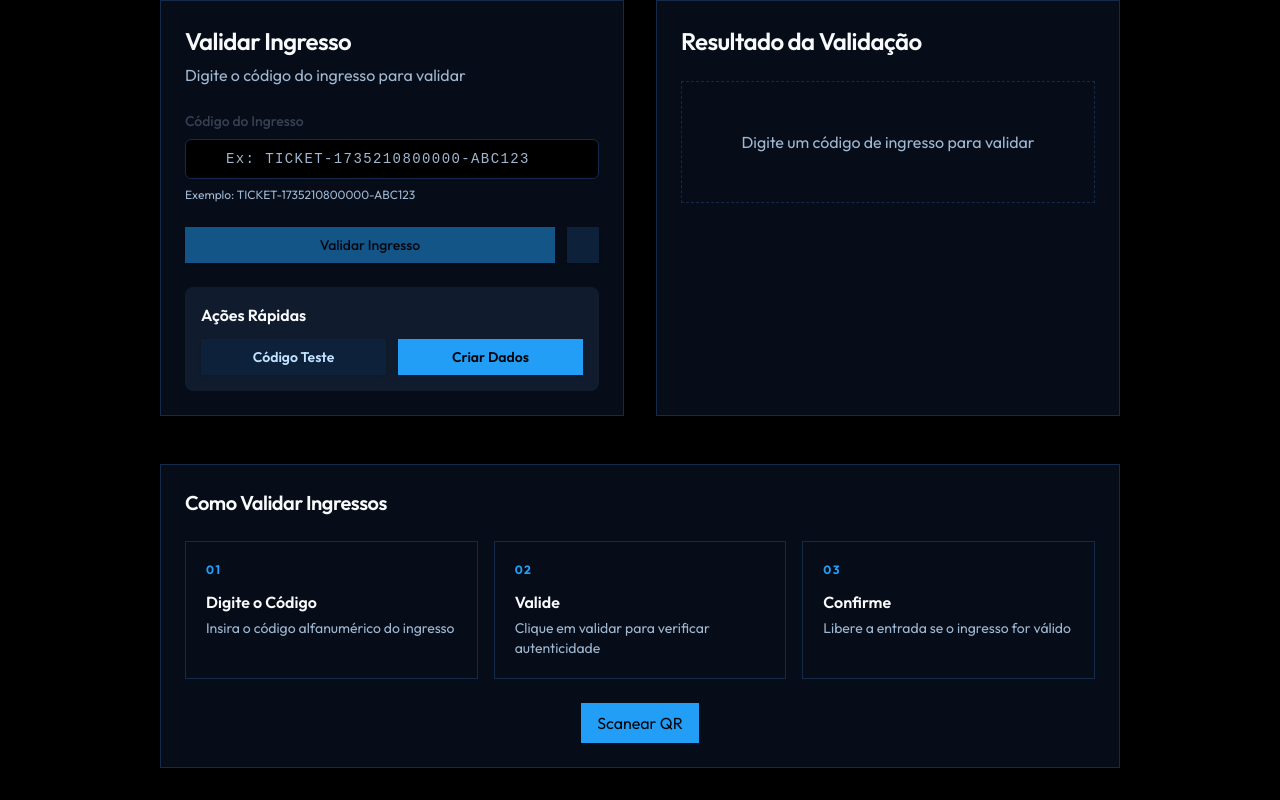
ValidatorPage › alterna texto do botão ao clicar em Scanear QR
(page scrolled)
Step 1. Click the button "Scanear QR" → (640, 723), box [581,703,699,743]
(page scrolled)
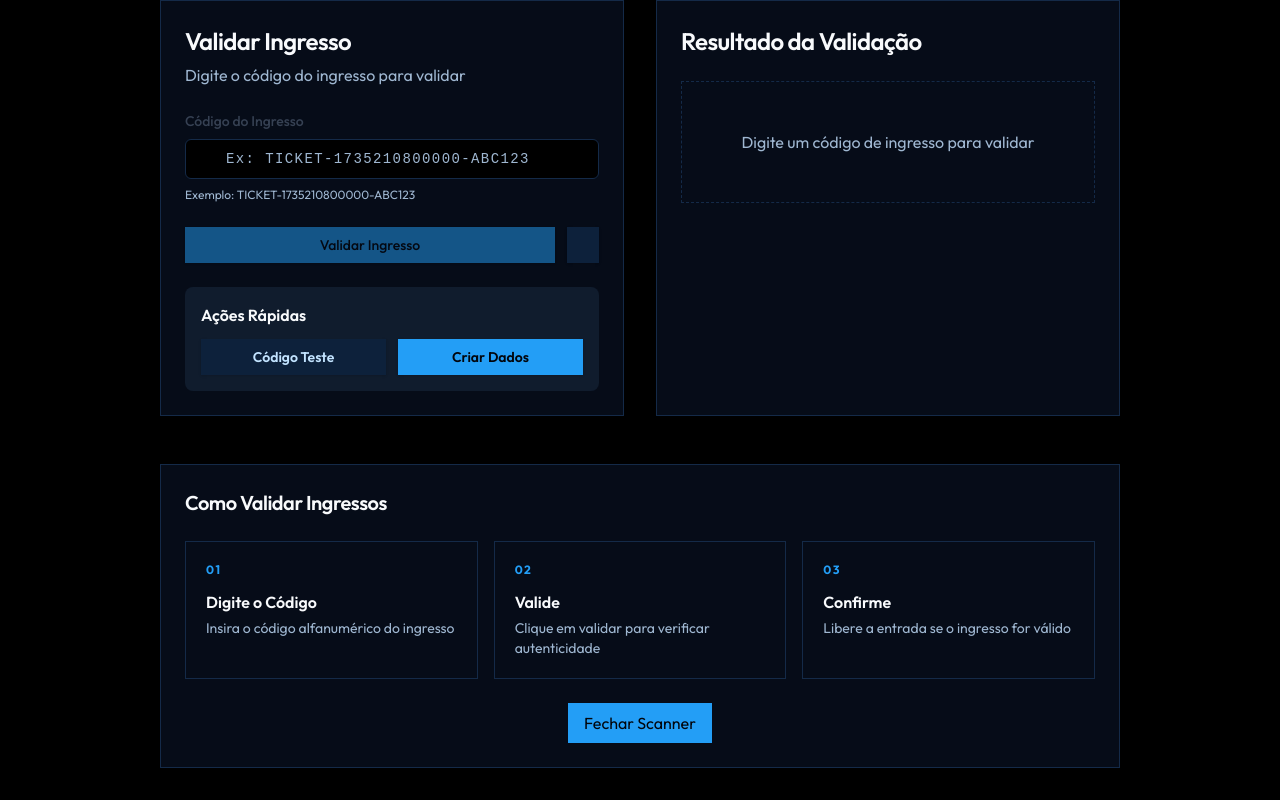
Now the button "Fechar Scanner" is shown
Step 2. Click the button "Fechar Scanner" → (640, 723), box [568,703,712,743]
(page scrolled)
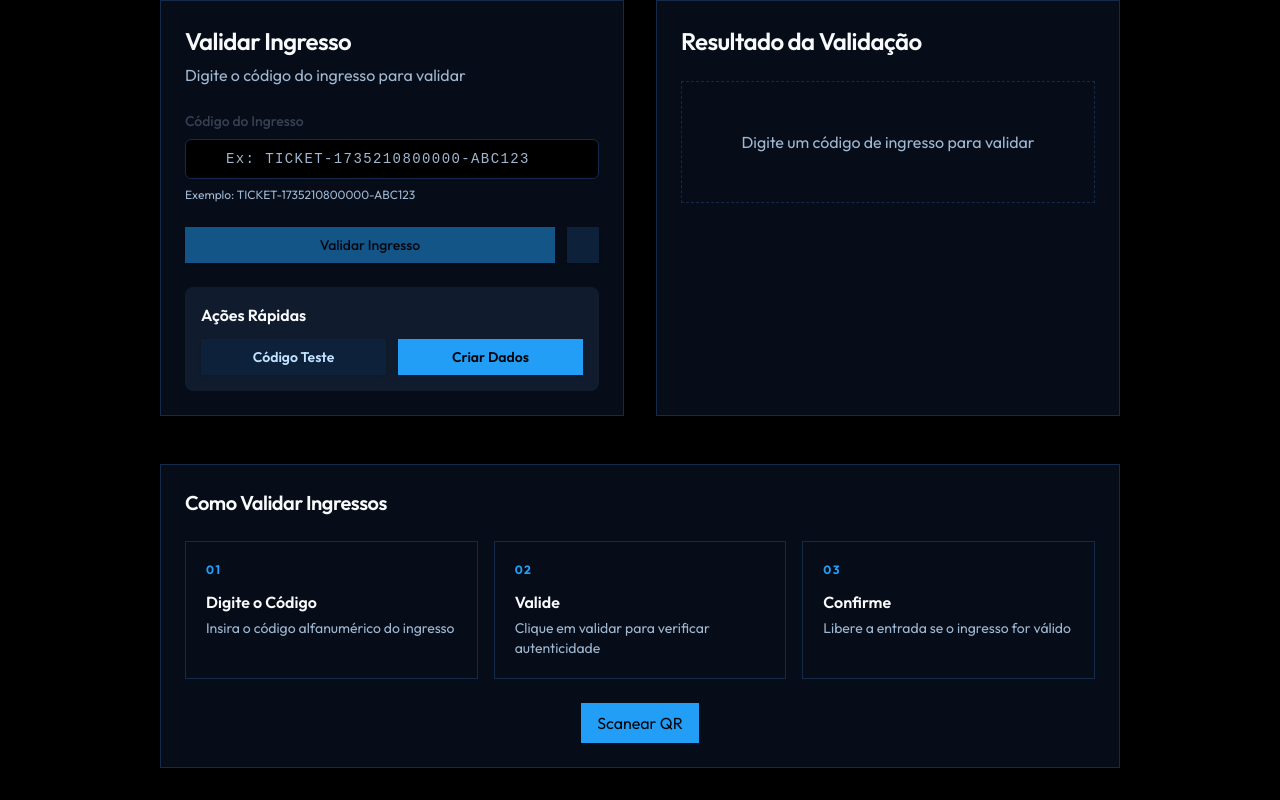
Now the button "Scanear QR" is shown, box [581,703,699,743]
